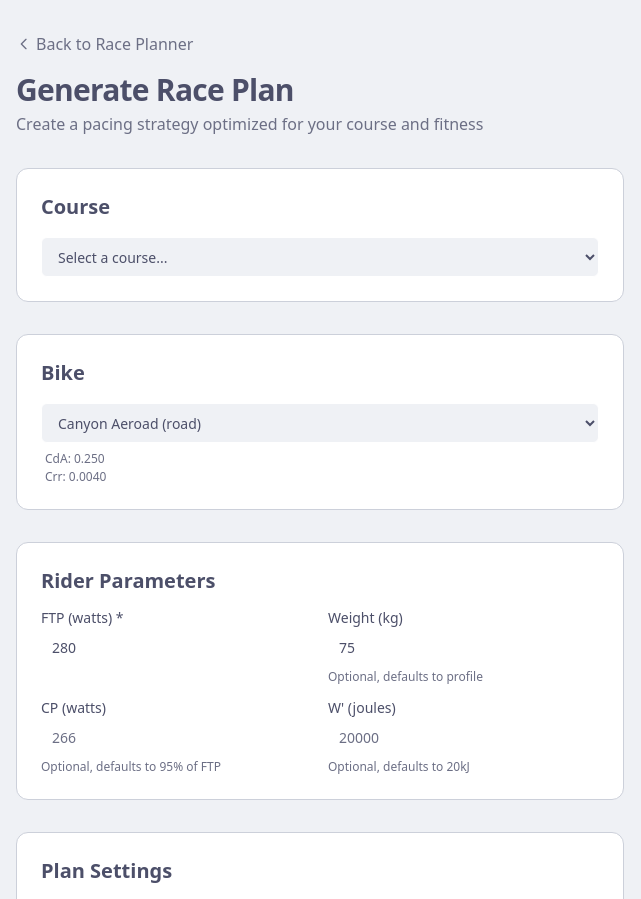
Scenario: GeneratePlan › Plan Generation › shows loading state during generation
This screenshot has width=641, height=899.
Expected: the number field showing "280" is shown, [41,631,312,663]
Select "Test Course (50.0 km, 1000 m gain)" in the 1st dropdown at {"x": 320, "y": 257}, box [41,237,599,277]
(page scrolled)
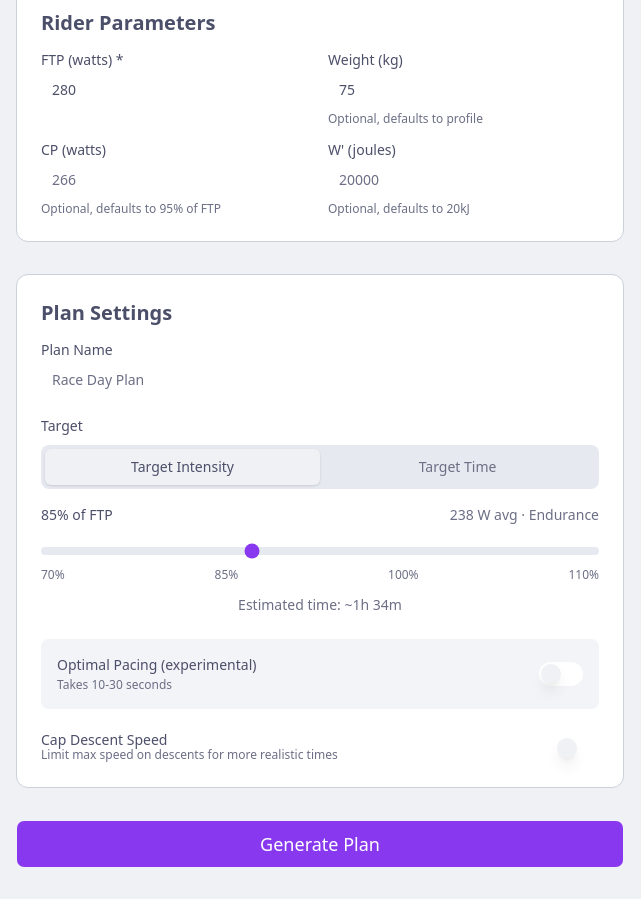
Click the button "Generate Plan".
click(320, 844)  # box [16,820,624,868]
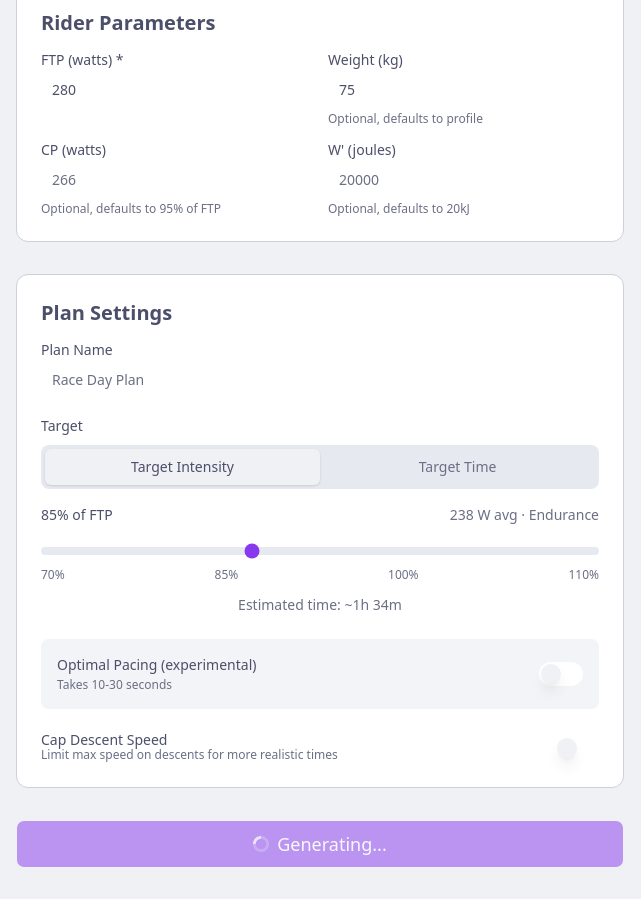
Now the text "Generating..." is shown, box [253,830,387,858]
